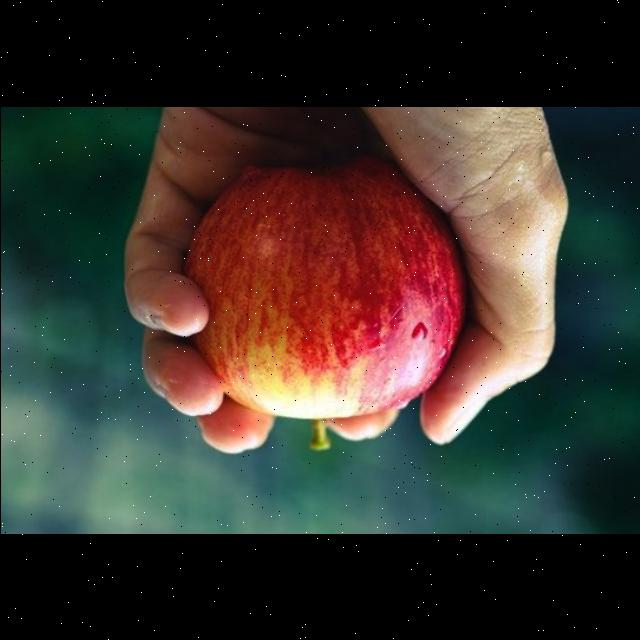Apel Segar: (168, 152, 470, 436)
